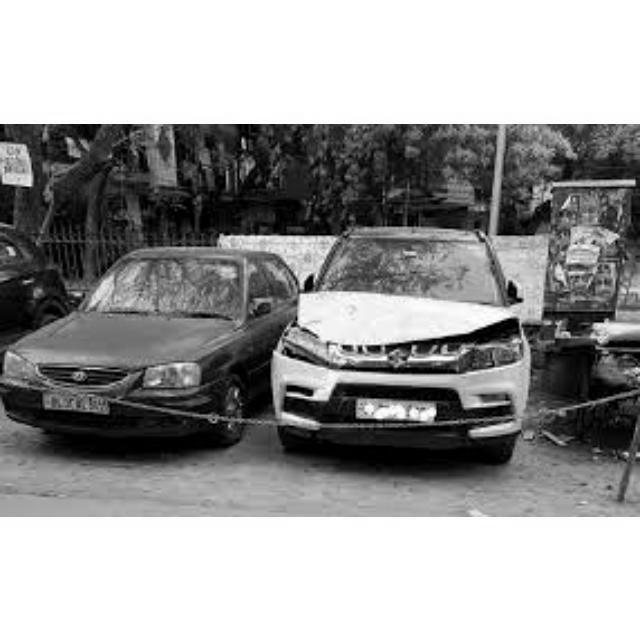bonnet-dent: (293, 294, 527, 379)
